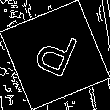P_SW: (28, 25, 82, 85)
